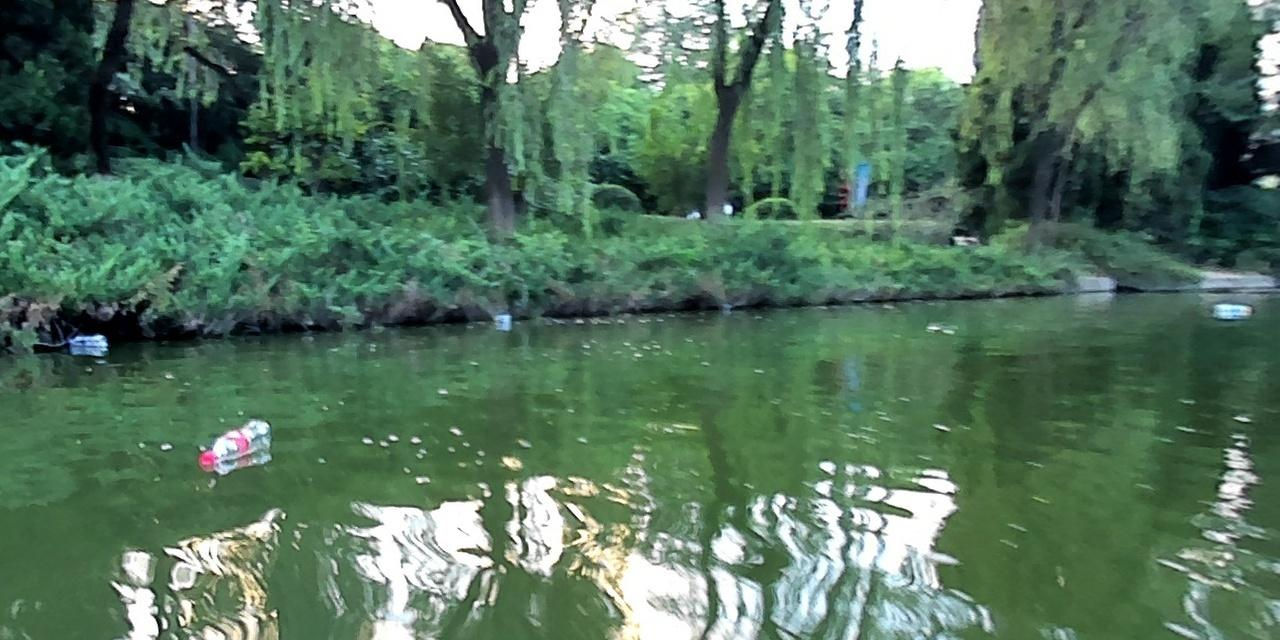bottle: (194, 415, 271, 470), (1209, 296, 1256, 321), (64, 330, 106, 352), (491, 308, 512, 328)
